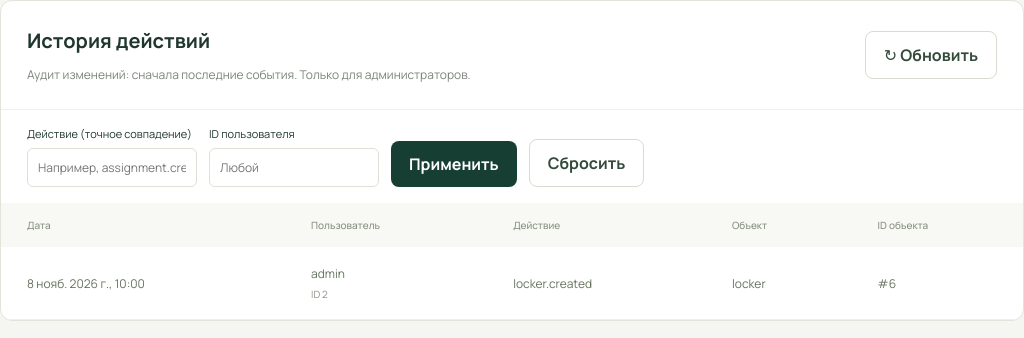
Test: audit › renders audit fields and applies exact server filters
Expected: the text "locker.created" is shown, [487,247,706,320]
Expected: the text "#6" is shown, [852,247,1023,320]
Type "assignment.created" into the field labelled "Действие (точное совпадение)". click: (112, 168)
box: [27,148,197,187]
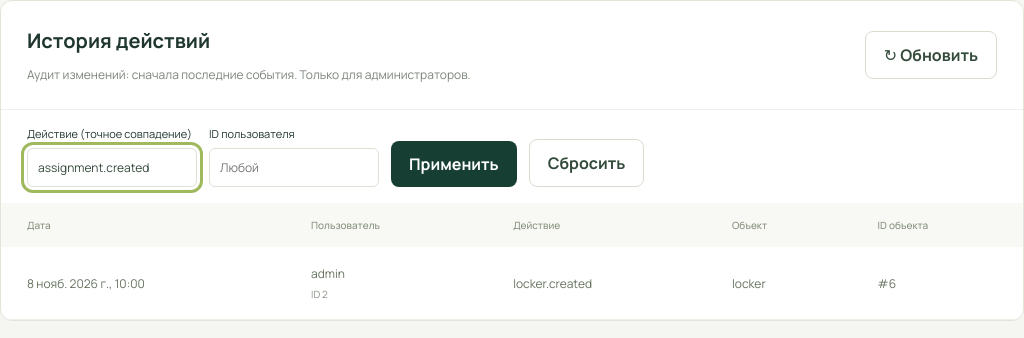
Type "2" into the number field labelled "ID пользователя". click: (294, 168)
box: [209,148,379,187]
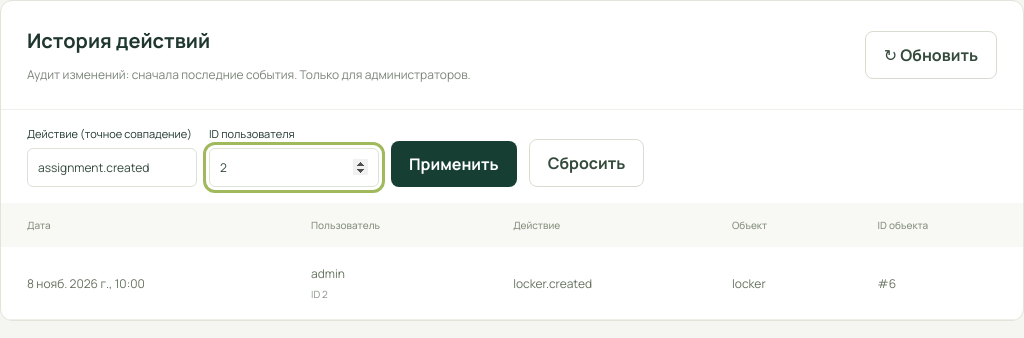
Click the button "Применить". click: (454, 164)
box: [391,141,517,187]
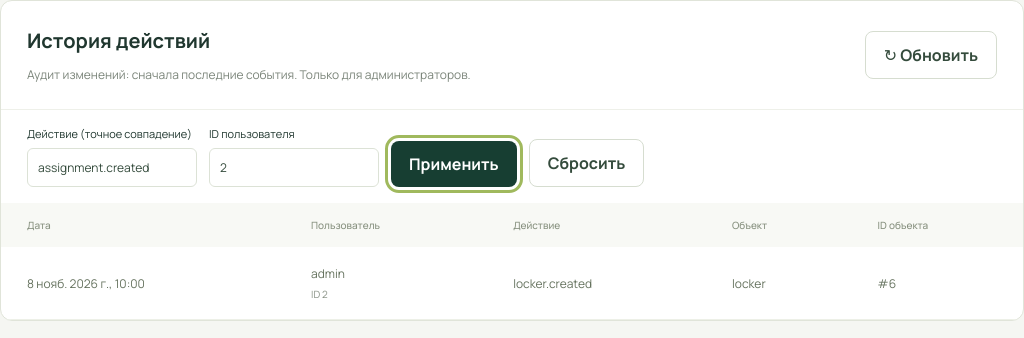
Click the button "Сбросить". click: (587, 163)
box: [529,139,644,187]
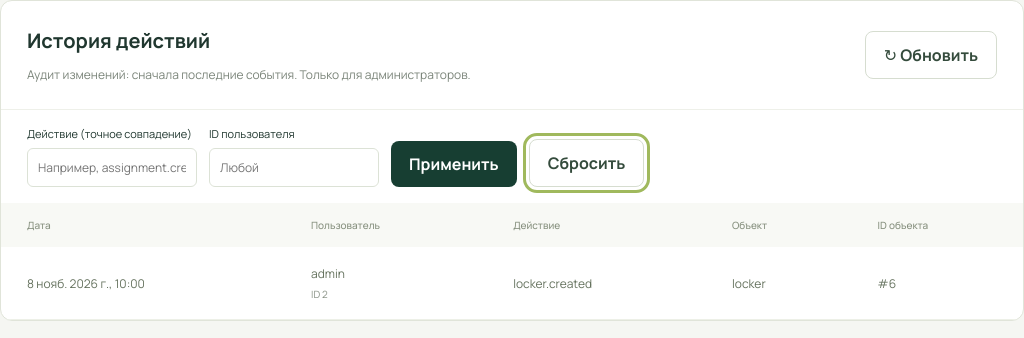
Expected: the number field labelled "ID пользователя" is empty, [209,148,379,187]
